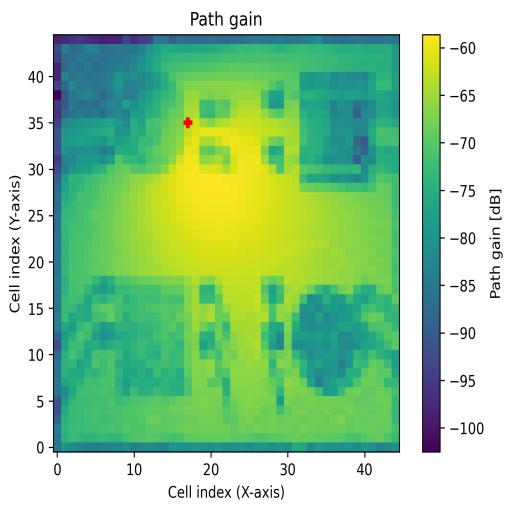Concrete: (300, 72, 377, 193)
Glass: (84, 53, 184, 174)
Metal: (292, 283, 369, 397)
Wood: (106, 276, 185, 398)
